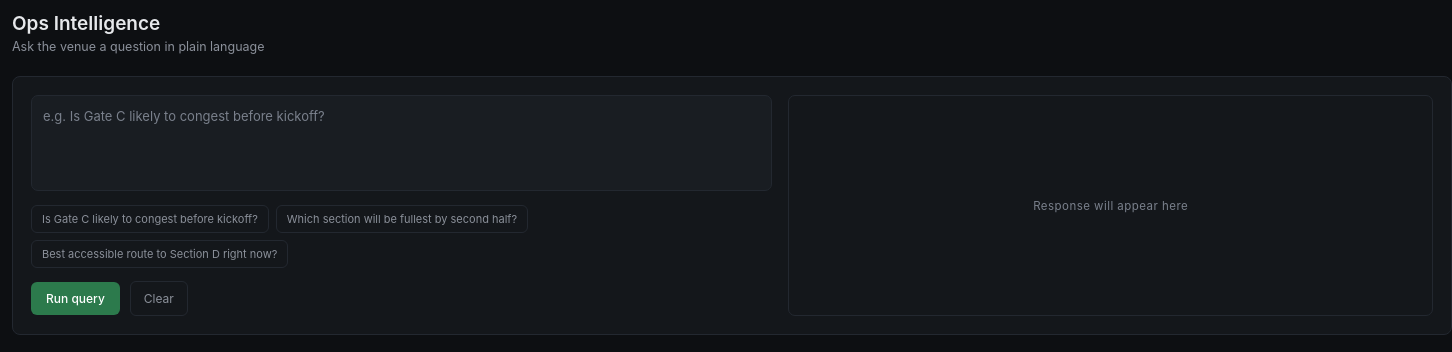
Smart Stadium Application - Edge Cases › OpsDashboard: clears query and response
Type "Hello" into the text box with placeholder "e.g. Is Gate C likely to congest before kickoff?" at (402, 143), box [31, 95, 772, 191]
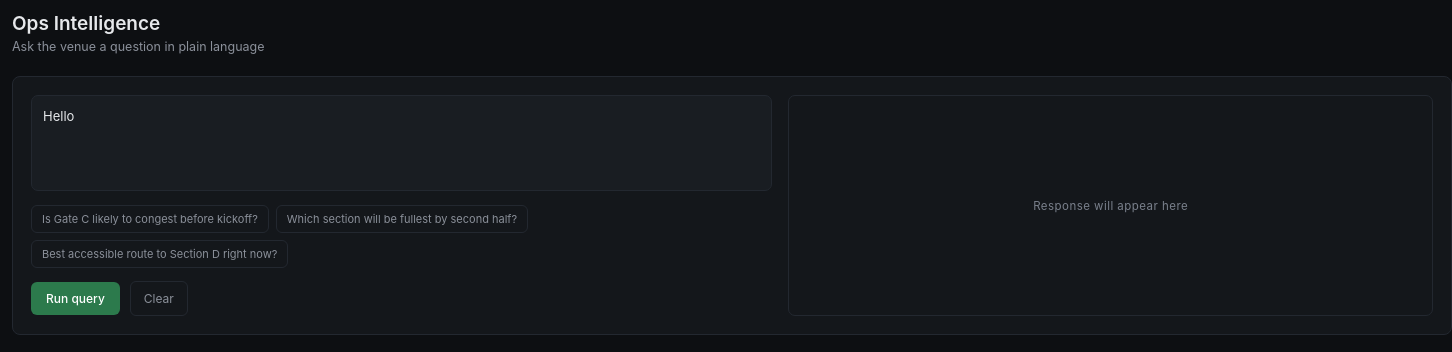
Click the button "Clear" at (159, 298), box [130, 281, 188, 316]
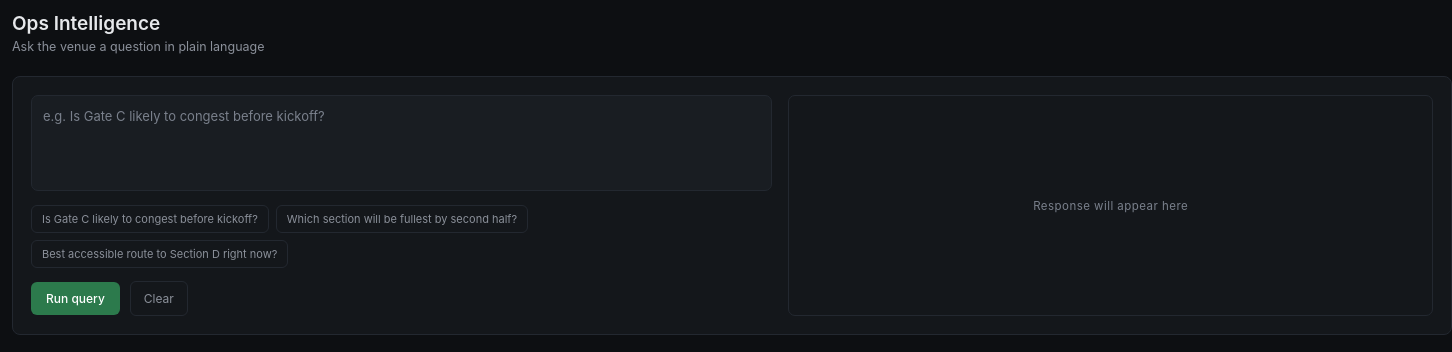
Expected: the text "Response will appear here" is shown, [1033, 198, 1188, 212]
Result: the text box with placeholder "e.g. Is Gate C likely to congest before kickoff?" is empty at [31, 95, 772, 191]
